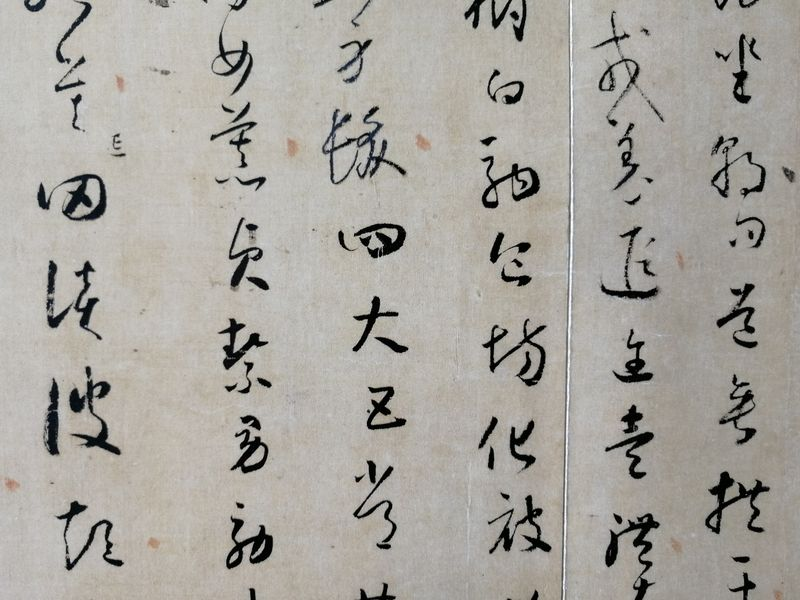zi: (588, 8, 663, 113), (45, 367, 125, 464), (320, 104, 405, 188), (345, 459, 408, 559), (208, 101, 274, 189), (597, 221, 664, 303), (55, 503, 131, 575), (31, 169, 117, 227), (484, 488, 553, 559), (606, 401, 666, 482), (485, 319, 553, 390), (605, 111, 658, 202), (43, 253, 99, 337), (480, 137, 540, 215), (221, 316, 276, 398), (705, 469, 768, 538), (224, 214, 274, 299), (707, 133, 768, 200), (603, 508, 660, 575), (334, 217, 410, 266), (230, 499, 277, 578), (716, 284, 769, 353), (474, 414, 537, 472), (714, 31, 762, 107), (26, 1, 98, 46), (354, 297, 407, 358), (458, 1, 531, 44), (720, 373, 759, 446), (231, 409, 267, 481), (52, 58, 86, 134), (489, 229, 533, 287), (212, 29, 256, 85), (612, 328, 652, 389), (337, 17, 371, 84), (480, 65, 531, 108), (367, 381, 405, 437), (724, 548, 757, 600), (730, 212, 767, 257)
